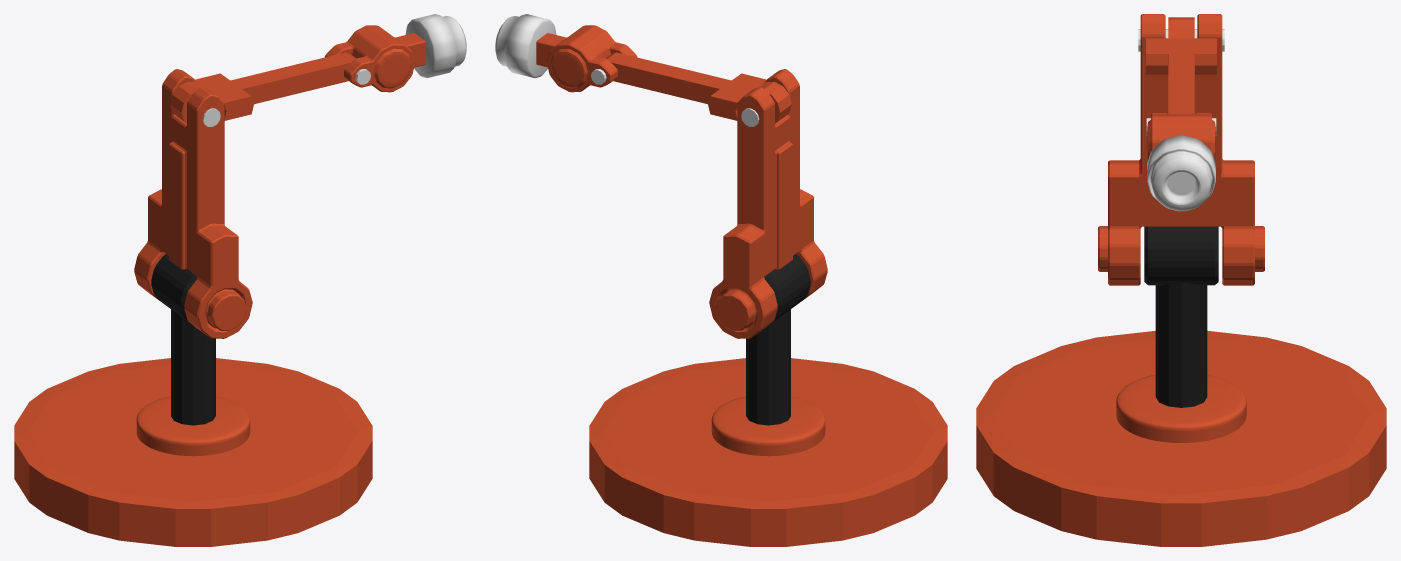
File: arm.fbx
3 renders of one model, left to right at view 1: azimuth 30°, elevation 25°; view 2: azimuth 150°, elevation 25°; view 3: azimuth 270°, elevation 25°, orthographic. The views are drawn at different scales.
Parts seen in each view (by area): view 1: Cylinder.002, Cylinder.019, Cylinder.018, Cylinder.020, Cylinder.003, Cylinder.021, Cylinder.022, Cylinder.017; view 2: Cylinder.002, Cylinder.019, Cylinder.018, Cylinder.020, Cylinder.003, Cylinder.021, Cylinder.022, Cylinder.017; view 3: Cylinder.002, Cylinder.019, Cylinder.003, Cylinder.020, Cylinder.017, Cylinder.022, Cylinder.018, Cylinder.021.
Part boxes in pixels (x1,y1,x2,y2): Cylinder.002: (14, 358, 372, 546); Cylinder.019: (134, 69, 252, 338); Cylinder.018: (170, 52, 355, 123); Cylinder.020: (136, 396, 250, 456); Cylinder.003: (171, 309, 215, 425); Cylinder.021: (324, 25, 425, 92); Cylinder.022: (405, 14, 466, 78); Cylinder.017: (151, 254, 197, 324); Cylinder.002: (589, 358, 947, 546); Cylinder.019: (709, 69, 827, 338); Cylinder.018: (606, 52, 791, 123); Cylinder.020: (711, 396, 825, 456); Cylinder.003: (746, 309, 790, 425); Cylinder.021: (536, 25, 637, 92); Cylinder.022: (495, 14, 556, 78); Cylinder.017: (764, 254, 810, 324); Cylinder.002: (976, 330, 1386, 546); Cylinder.019: (1098, 14, 1264, 285); Cylinder.003: (1155, 282, 1207, 407); Cylinder.020: (1116, 374, 1246, 442); Cylinder.017: (1144, 226, 1218, 285); Cylinder.022: (1147, 135, 1215, 211); Cylinder.018: (1146, 17, 1216, 113); Cylinder.021: (1147, 113, 1215, 161).
Size of the model in its own units: 1013 by 913 by 750.
